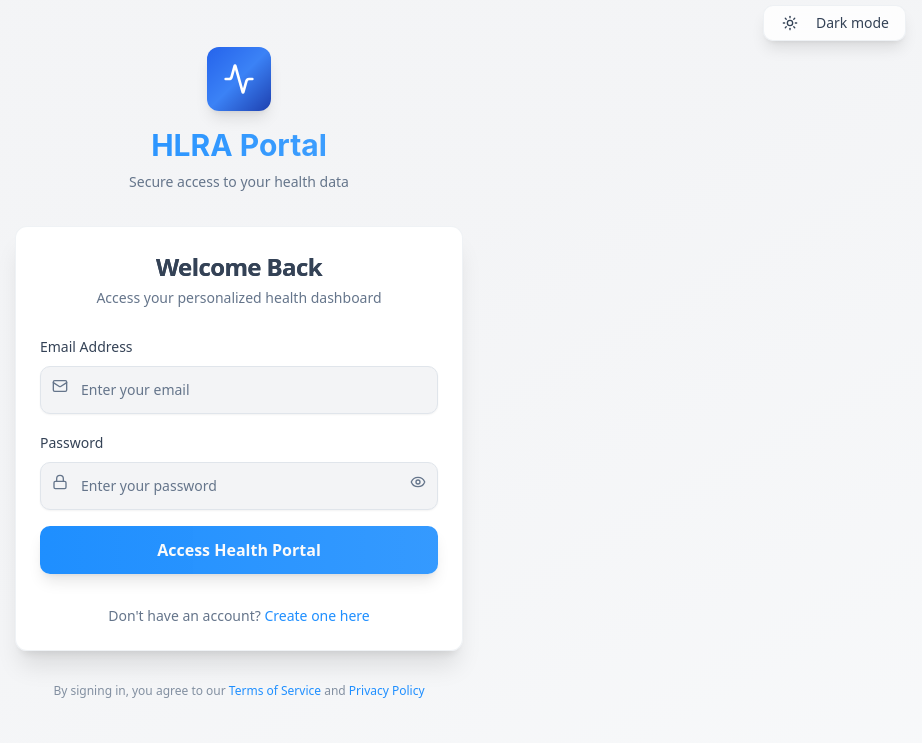
LoginPage › shows validation errors for invalid inputs
Try to submit without filling any fields
Step 1. Click the button "Access Health Portal" → (239, 550), box x1=40 y1=526 x2=438 y2=574
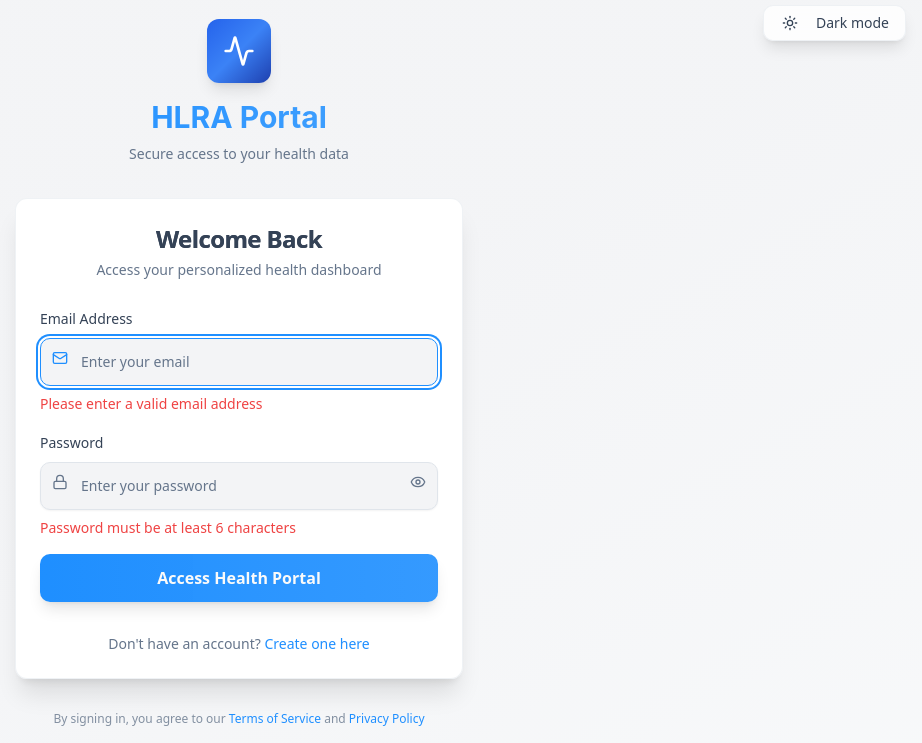
Result: the text "Please enter a valid email address" is shown at x1=40 y1=394 x2=262 y2=413
Result: the text "Password must be at least 6 characters" is shown at x1=40 y1=518 x2=296 y2=537
